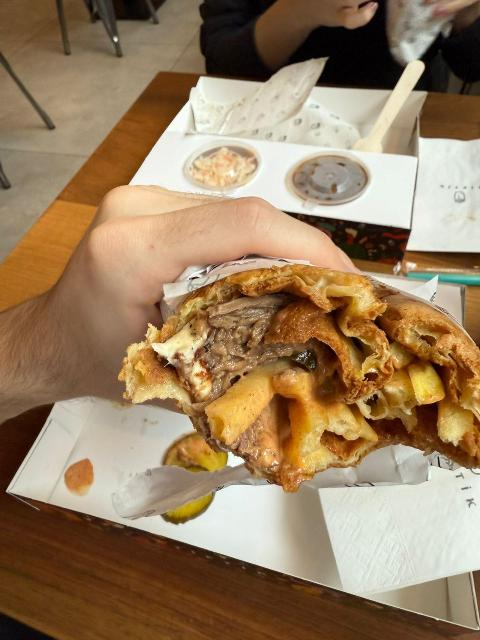Kagit: (120, 473, 221, 507), (213, 99, 308, 132)
Organik: (273, 304, 368, 380), (205, 368, 288, 435), (201, 156, 244, 180)
Plastik: (367, 63, 429, 151)
